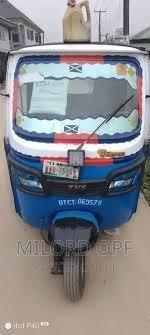keke: (2, 42, 150, 300)
